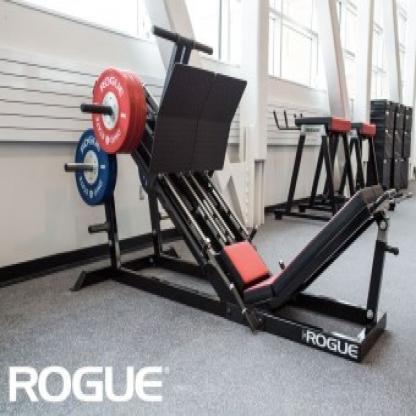leg press: (62, 13, 405, 373)
